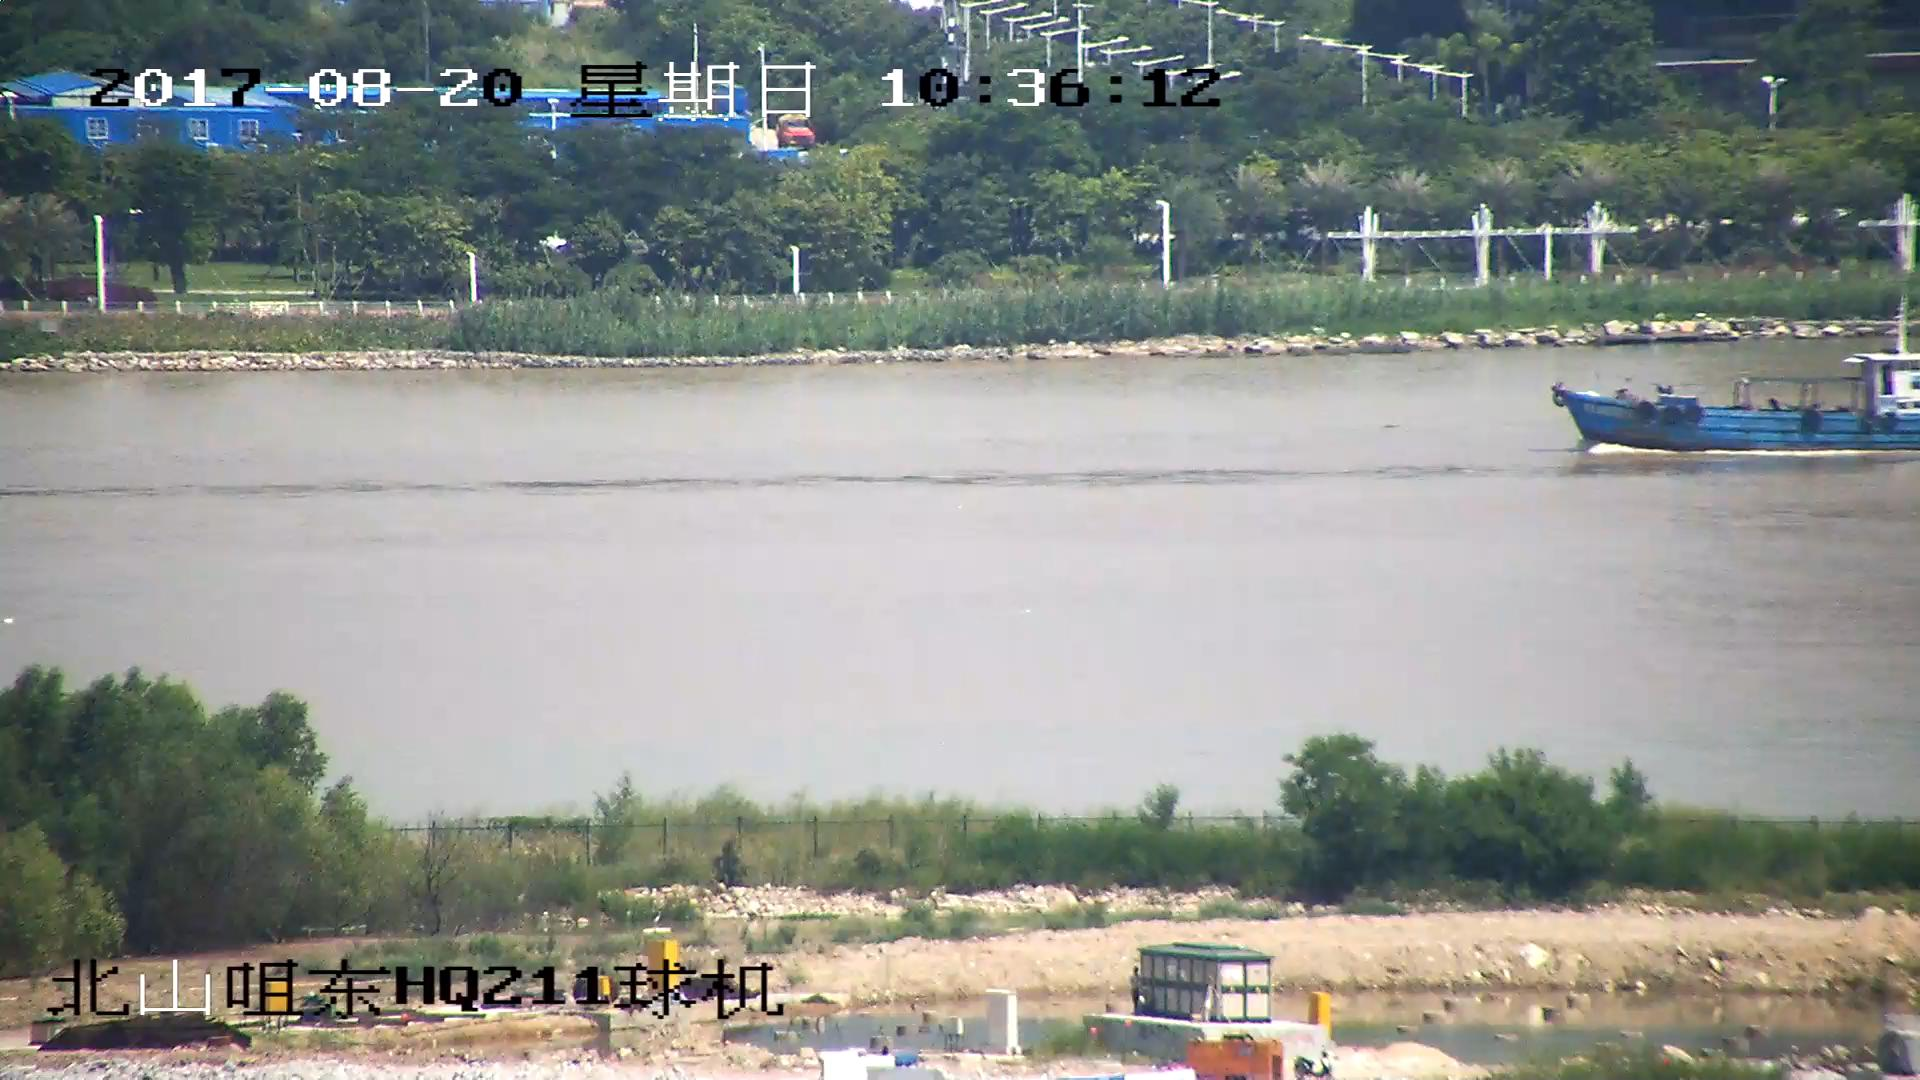fishing boat: (1554, 345, 1920, 454)
